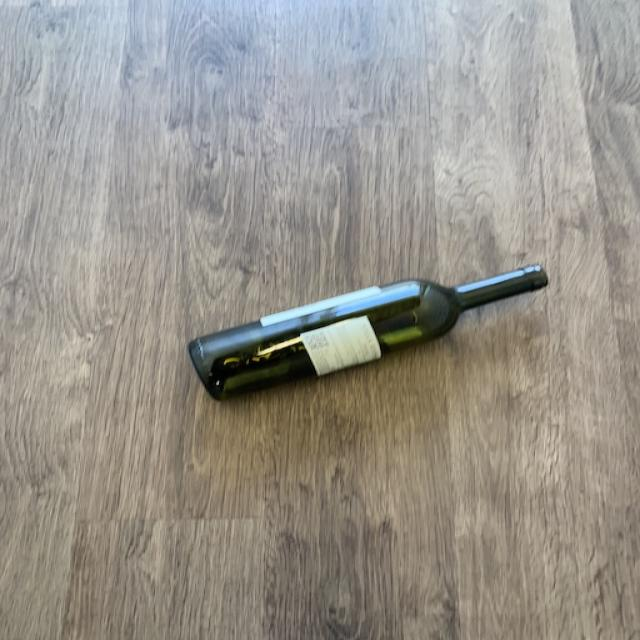Glass Bottle: (189, 262, 550, 402)
